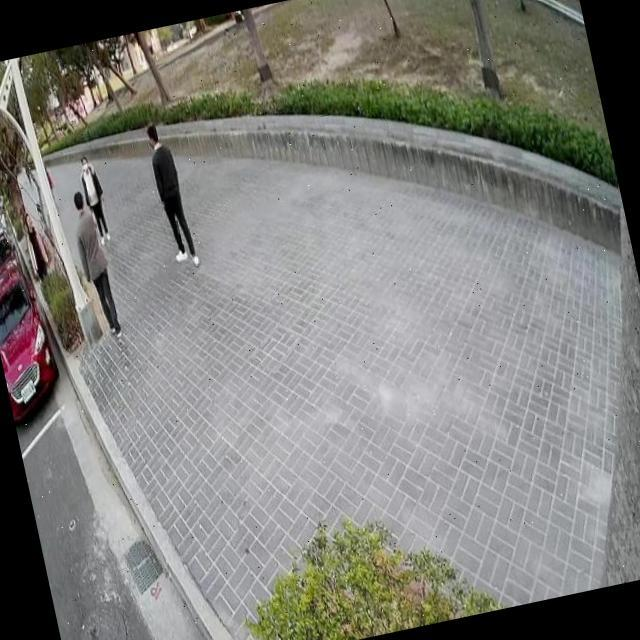person: (64, 182, 128, 346), (140, 113, 204, 272), (75, 151, 117, 248), (18, 206, 56, 286)
